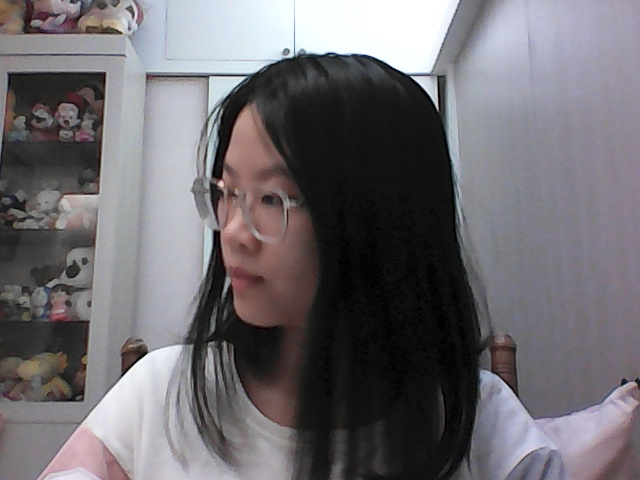NoMask: (207, 219, 338, 328)
